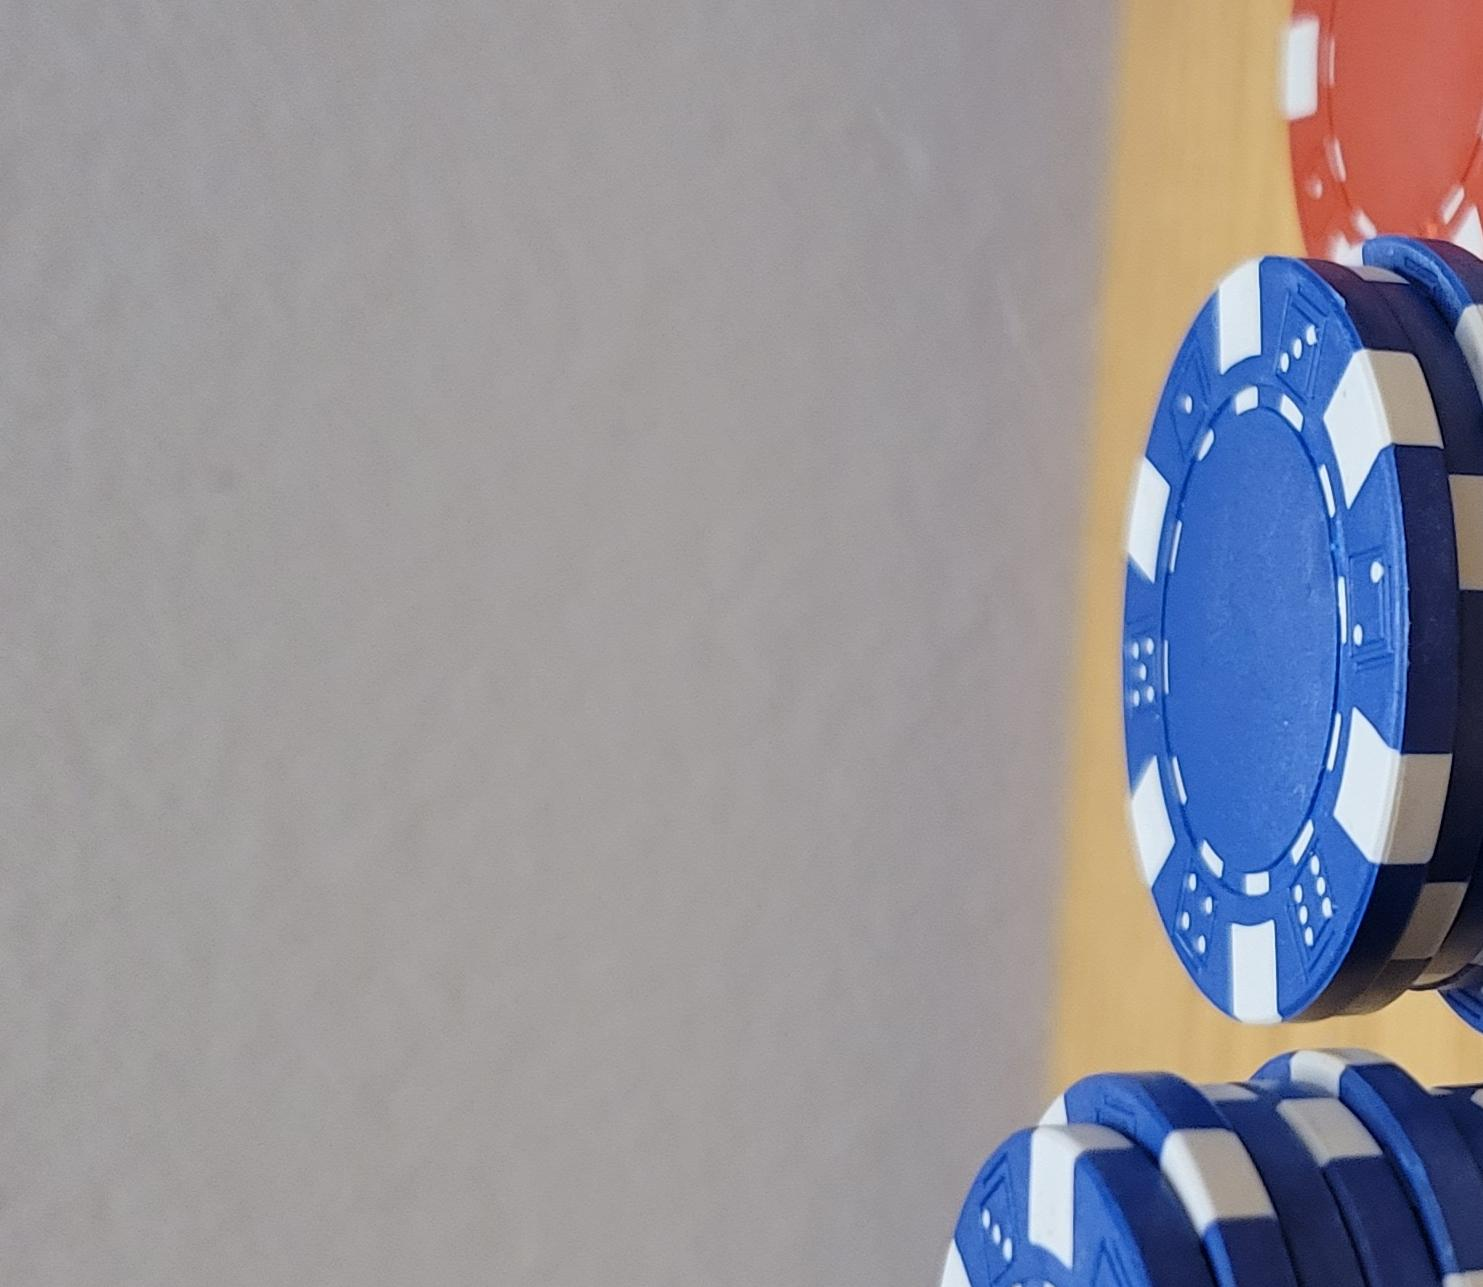Chip: (1, 268, 1064, 1287)
